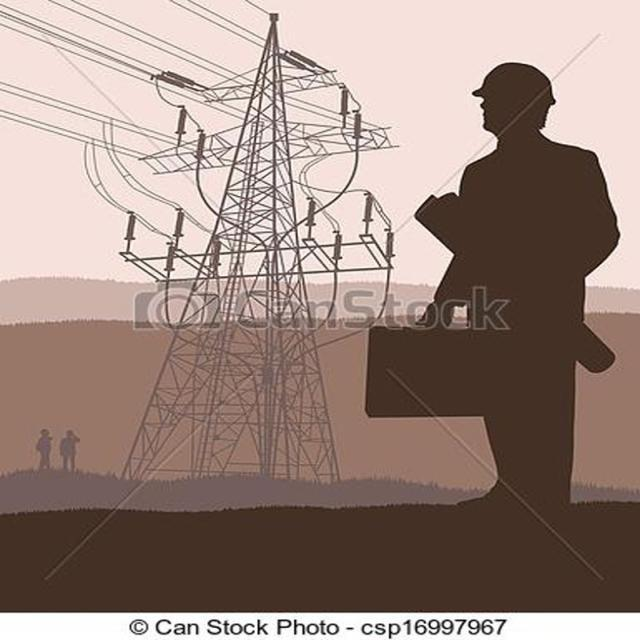non-critical vegetation: (114, 12, 395, 490)
